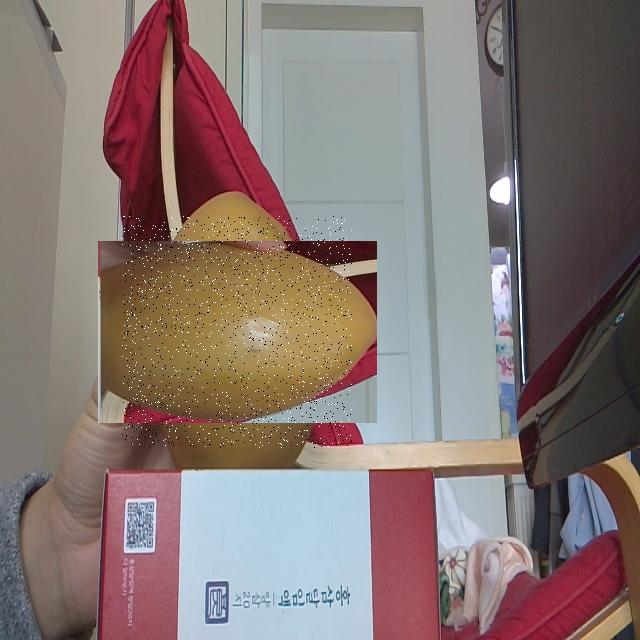pear: (122, 216, 352, 448)
